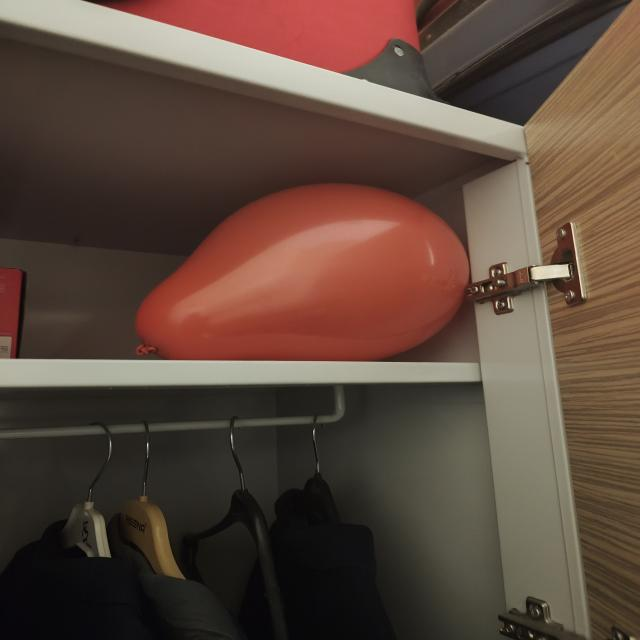balloon: (136, 184, 469, 361)
